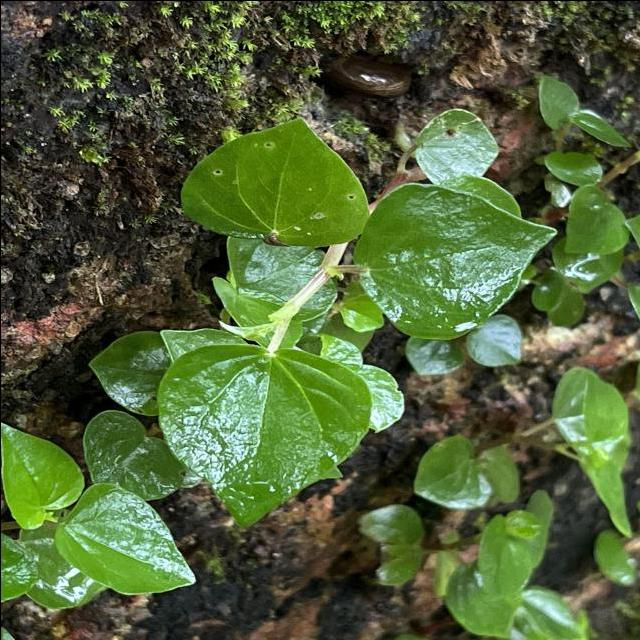Peperomia pellucida: (154, 341, 372, 528), (349, 181, 557, 341), (177, 115, 369, 248)
